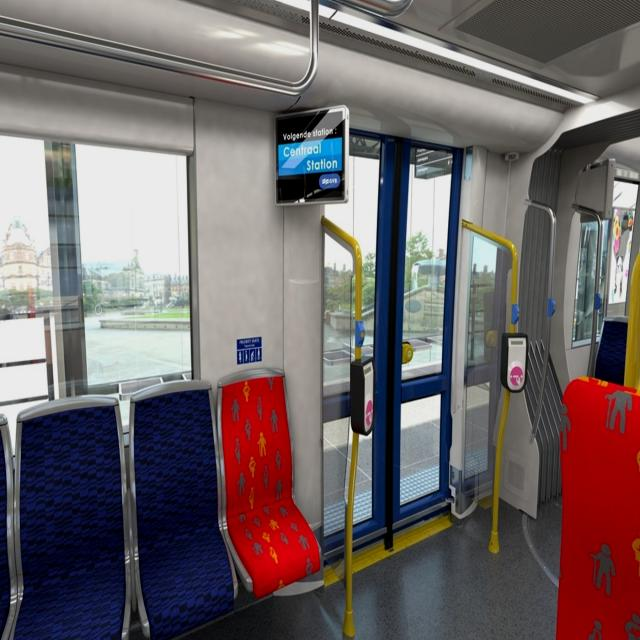asiento-libre: (11, 394, 131, 640), (128, 378, 239, 640), (217, 369, 323, 601), (555, 375, 640, 639), (0, 413, 14, 640), (594, 316, 630, 386)
